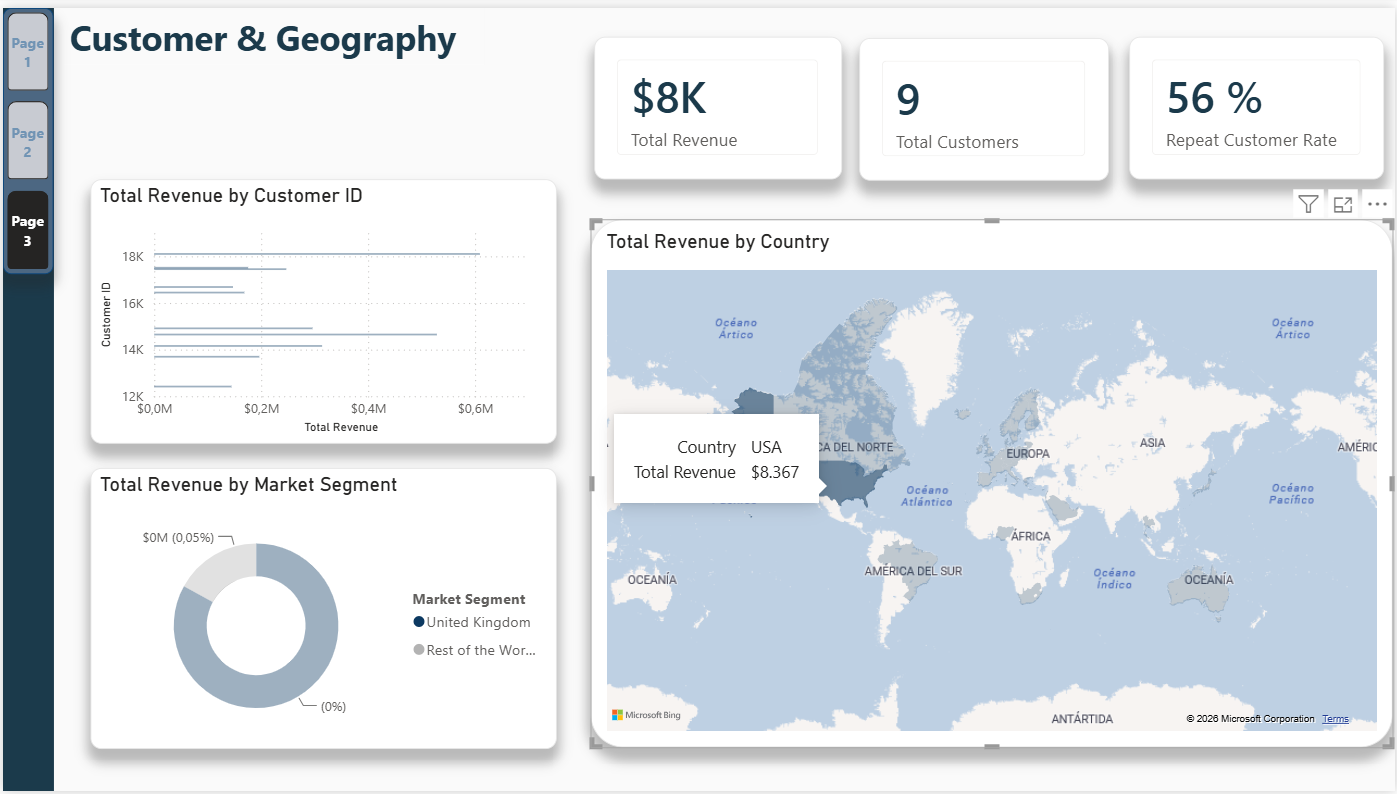

This screenshot's page, from the dashboard's own definition file:
{"tool":"powerbi","page":{"name":"Page 3","canvas":[1280,720],"ordinal":2},"visuals":[{"type":"textbox","box":[56.8,0,386.4,52.4],"z":0},{"type":"shape","box":[-0.7,0,48,720],"z":1000},{"type":"pageNavigator","box":[0,0,46.6,244.8],"z":2000},{"type":"filledMap","fields":{"Category":["online_retail_cleaned.Country"]},"box":[540.6,194.8,737.6,485.9],"z":3000},{"type":"cardVisual","fields":{"Data":["online_retail_cleaned.Total Revenue"]},"box":[543.2,26.4,227.6,130.8],"z":4000},{"type":"cardVisual","fields":{"Data":["online_retail_cleaned.Total Customers"]},"box":[787.3,27.5,229.8,130.8],"z":5000},{"type":"cardVisual","fields":{"Data":["online_retail_cleaned.Repeat Customer Rate"]},"box":[1035.8,26.4,234.2,130.8],"z":6000},{"type":"clusteredBarChart","fields":{"Category":["online_retail_cleaned.Customer ID"],"Y":["online_retail_cleaned.Total Revenue"]},"box":[81,157.6,429,243],"z":7000},{"type":"donutChart","fields":{"Category":["online_retail_cleaned.Market Segment"],"Y":["online_retail_cleaned.Total Revenue"]},"box":[81,422.4,429,258.3],"z":8000}]}

Visuals, with their boxes on the page's 1280x720 design canvas (x1, y1, x2, y2). These are canvas units, not pixel positions in the 1397x794 screenshot, which may show the page scaled, cropped or inside an application window:
textbox: x1=57, y1=0, x2=443, y2=52
shape: x1=-1, y1=0, x2=47, y2=720
pageNavigator: x1=0, y1=0, x2=47, y2=245
filledMap - online_retail_cleaned.Country: x1=541, y1=195, x2=1278, y2=681
cardVisual - online_retail_cleaned.Total Revenue: x1=543, y1=26, x2=771, y2=157
cardVisual - online_retail_cleaned.Total Customers: x1=787, y1=28, x2=1017, y2=158
cardVisual - online_retail_cleaned.Repeat Customer Rate: x1=1036, y1=26, x2=1270, y2=157
clusteredBarChart - online_retail_cleaned.Customer ID x online_retail_cleaned.Total Revenue: x1=81, y1=158, x2=510, y2=401
donutChart - online_retail_cleaned.Market Segment x online_retail_cleaned.Total Revenue: x1=81, y1=422, x2=510, y2=681
